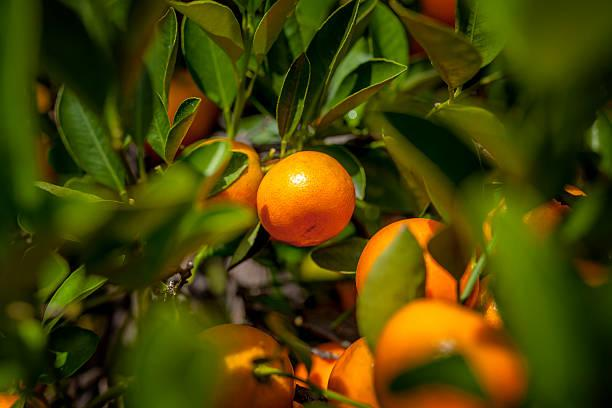orange: (376, 302, 562, 408), (263, 150, 364, 250), (364, 215, 465, 298)
